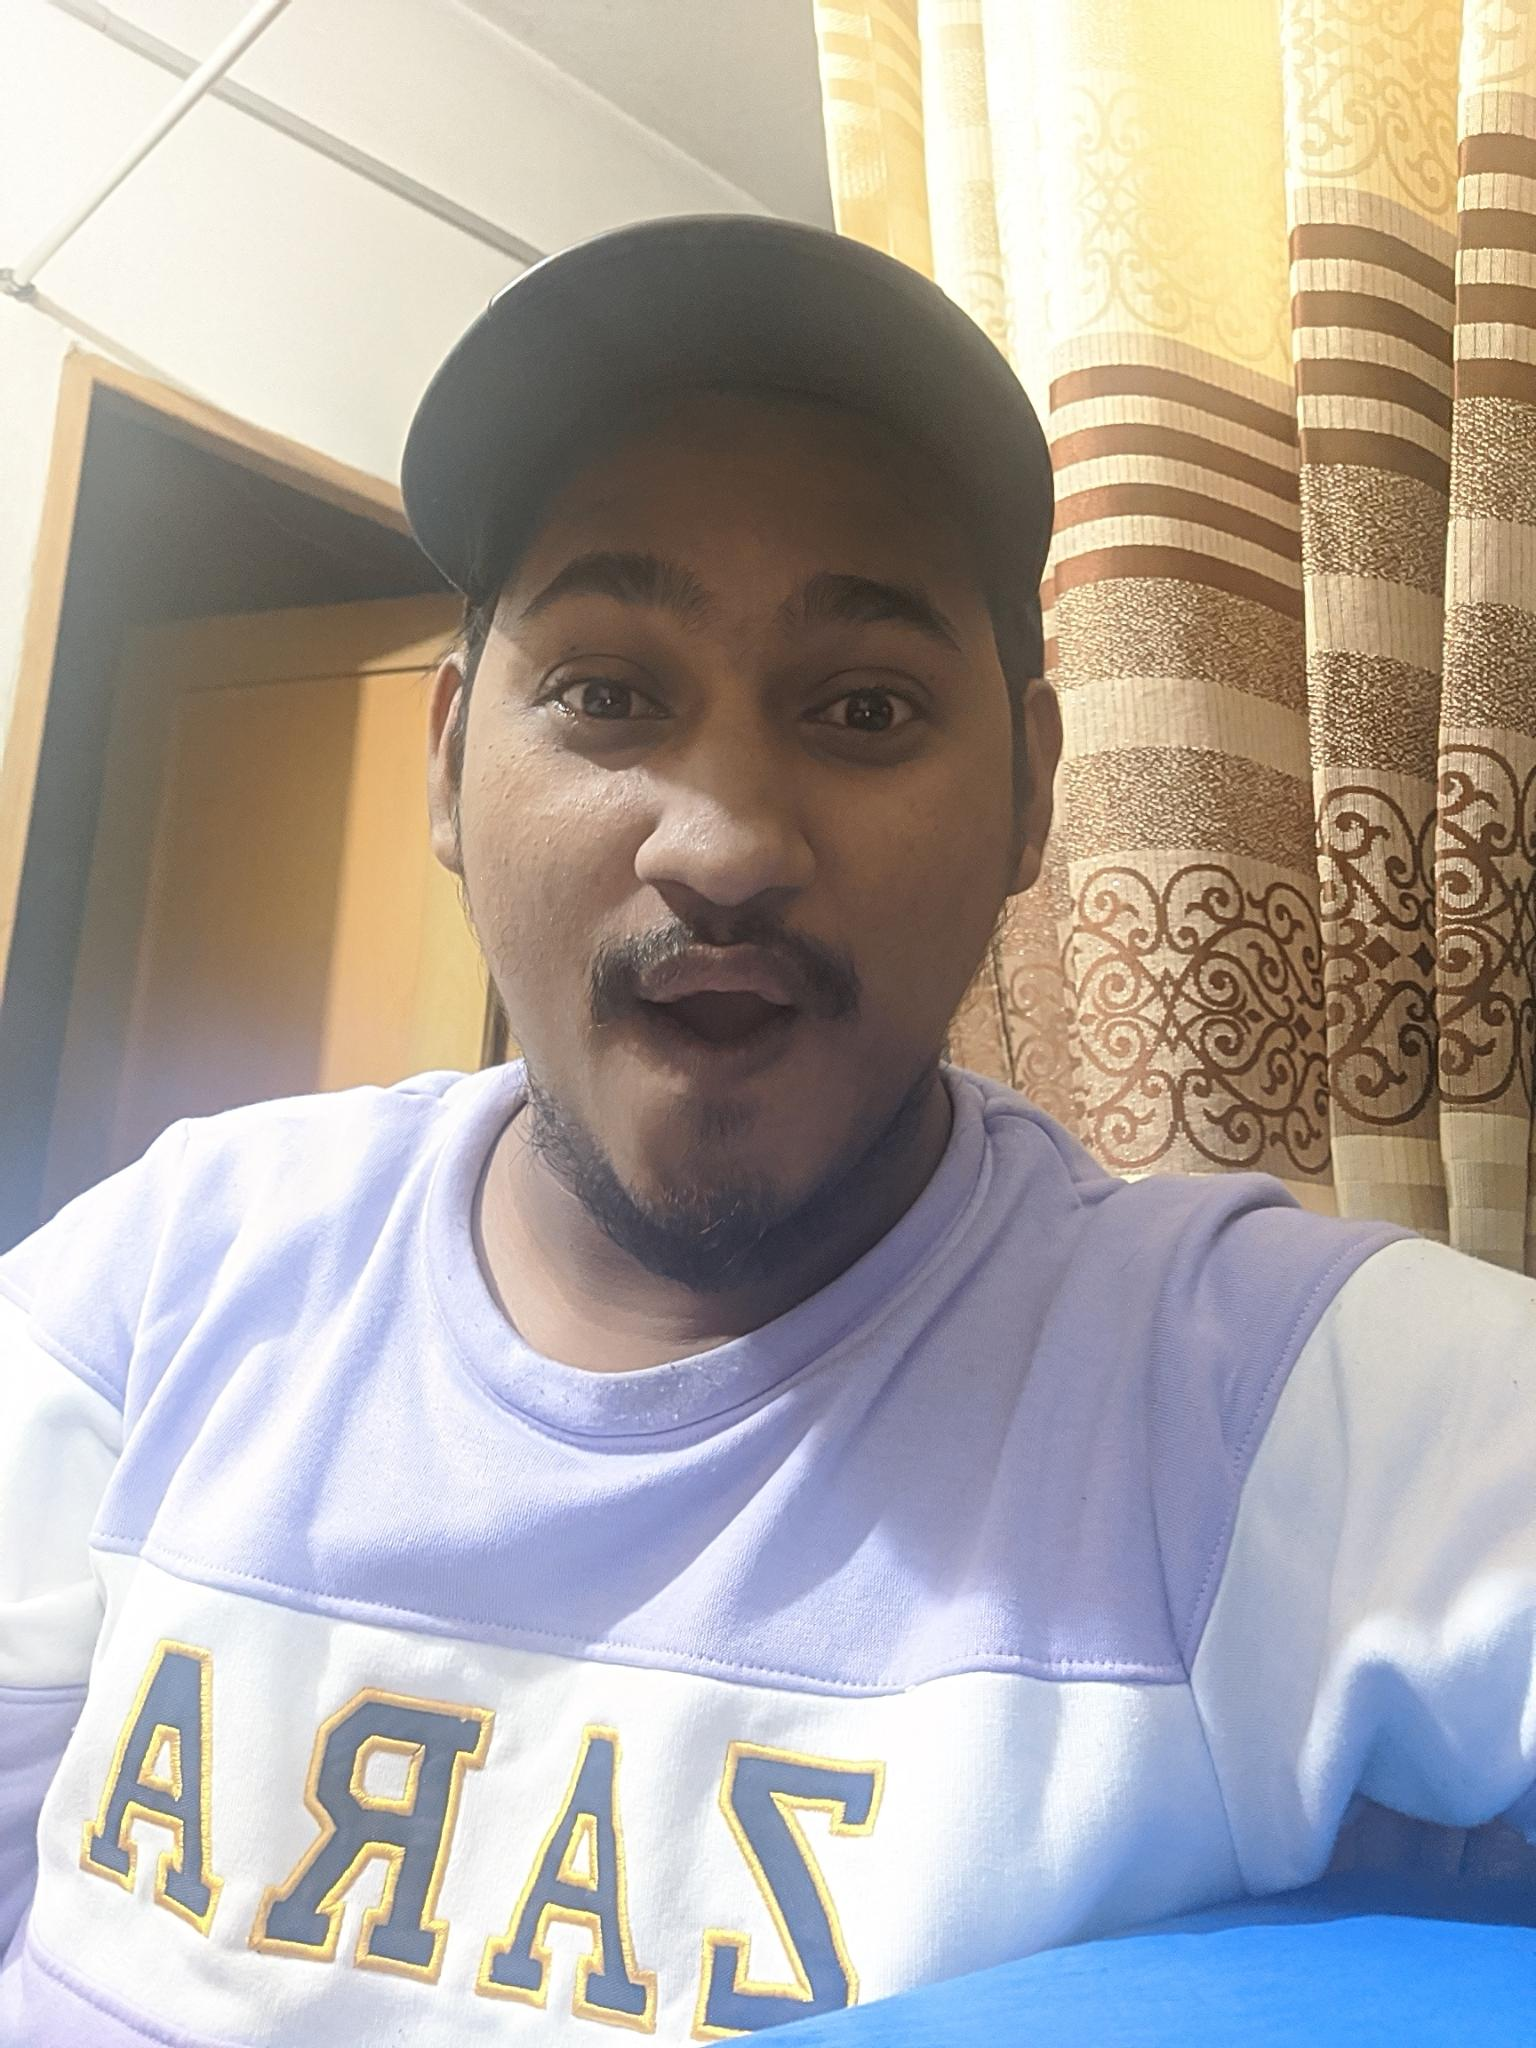Surprise: (450, 481, 1010, 1261)
